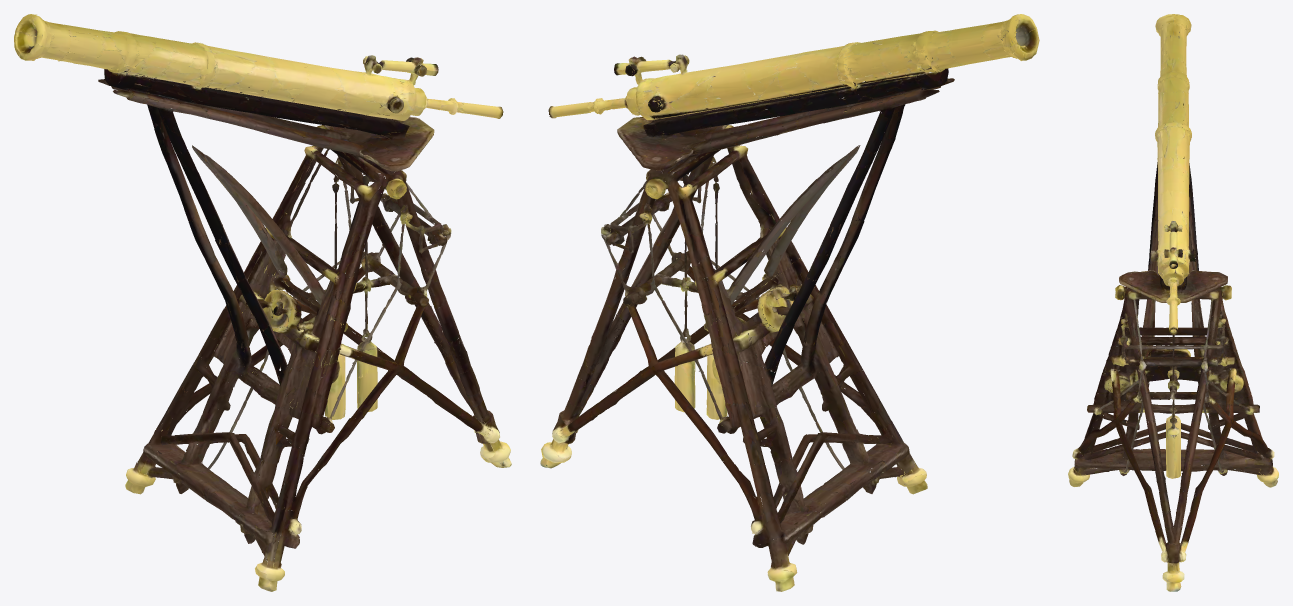
The model's file is luneta-grande.glb.
3 views of the same model, side by side, from view 1: azimuth 30°, elevation 25°; view 2: azimuth 150°, elevation 25°; view 3: azimuth 270°, elevation 25° (orthographic). The views are drawn at different scales.
Parts seen in each view (by area): view 1: luneta-grande; view 2: luneta-grande; view 3: luneta-grande.
Part boxes in pixels (bbox=[...]): luneta-grande: bbox=[14, 14, 511, 591]; luneta-grande: bbox=[540, 14, 1039, 591]; luneta-grande: bbox=[1068, 14, 1278, 591].
Size of the model in its own units: 2.9 by 3.2 by 1.48.
Materials: 1 (1 with a texture image).
